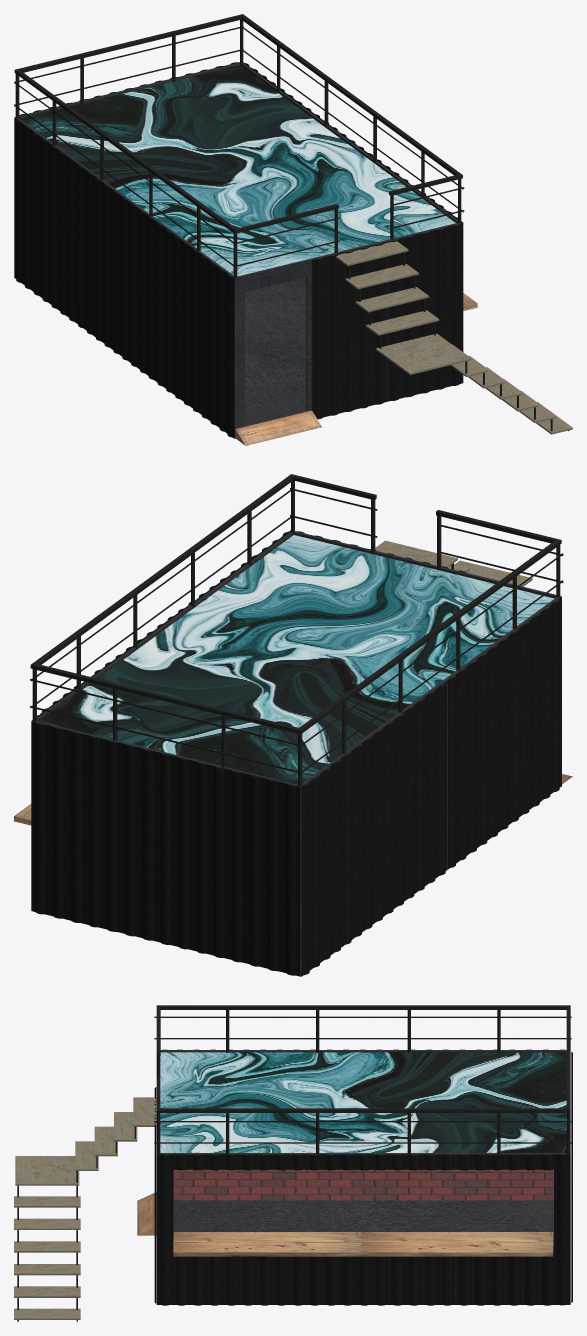
Rendered from Cafe Shop.fbx.
3 renders of one model, top to bottom at view 1: azimuth 30°, elevation 25°; view 2: azimuth 150°, elevation 25°; view 3: azimuth 270°, elevation 25°, orthographic. The views are drawn at different scales.
Parts seen in each view (by area): view 1: Granite Top, Wall_D, Join_Cyl_T, Wall_L, Plane.095, Plane.097, Stair1.006, Plane.089, Plane.096, Plane.088, Plane.094, Plane.086 (+36 smaller); view 2: Granite Top, Join_Cyl_T, Plane.075, Plane.079, Plane.078, Plane.073, Plane.082, Plane.074, Plane.077, Plane.076, Plane.080, Plane.081 (+40 smaller); view 3: Granite Top, Wall_D, Interior Side, Open_Table, Join_Cyl_T, Plane.048, Plane.004, Stair1.006, Wall_F, Wall_B, Plane.002, Plane.005 (+37 smaller).
Boxes of the visible parts, x1=… form: Granite Top: x1=20, y1=65, x2=455, y2=276; Wall_D: x1=234, y1=277, x2=451, y2=438; Join_Cyl_T: x1=14, y1=14, x2=462, y2=233; Wall_L: x1=233, y1=222, x2=461, y2=437; Plane.095: x1=326, y1=253, x2=341, y2=416; Plane.097: x1=311, y1=256, x2=326, y2=419; Stair1.006: x1=375, y1=333, x2=471, y2=374; Plane.089: x1=448, y1=223, x2=463, y2=386; Plane.096: x1=341, y1=249, x2=356, y2=412; Plane.088: x1=433, y1=227, x2=448, y2=390; Plane.094: x1=357, y1=245, x2=372, y2=408; Plane.086: x1=417, y1=230, x2=432, y2=393; Granite Top: x1=39, y1=535, x2=554, y2=784; Join_Cyl_T: x1=30, y1=474, x2=561, y2=734; Plane.075: x1=49, y1=726, x2=67, y2=919; Plane.079: x1=156, y1=752, x2=174, y2=945; Plane.078: x1=138, y1=748, x2=156, y2=941; Plane.073: x1=31, y1=721, x2=49, y2=914; Plane.082: x1=174, y1=756, x2=192, y2=949; Plane.074: x1=192, y1=761, x2=210, y2=954; Plane.077: x1=67, y1=730, x2=85, y2=923; Plane.076: x1=85, y1=734, x2=102, y2=928; Plane.080: x1=121, y1=743, x2=138, y2=936; Plane.081: x1=103, y1=739, x2=120, y2=932; Granite Top: x1=160, y1=1052, x2=566, y2=1152; Wall_D: x1=156, y1=1200, x2=569, y2=1304; Interior Side: x1=173, y1=1169, x2=553, y2=1200; Open_Table: x1=173, y1=1232, x2=553, y2=1256; Join_Cyl_T: x1=156, y1=1005, x2=570, y2=1112; Plane.048: x1=157, y1=1154, x2=173, y2=1305; Plane.004: x1=554, y1=1154, x2=570, y2=1305; Stair1.006: x1=15, y1=1156, x2=79, y2=1185; Wall_F: x1=159, y1=1153, x2=567, y2=1302; Wall_B: x1=160, y1=1050, x2=566, y2=1052; Plane.002: x1=206, y1=1256, x2=223, y2=1305; Plane.005: x1=256, y1=1256, x2=273, y2=1305.
Size of the model in its own units: 3457 by 2618 by 6740.
